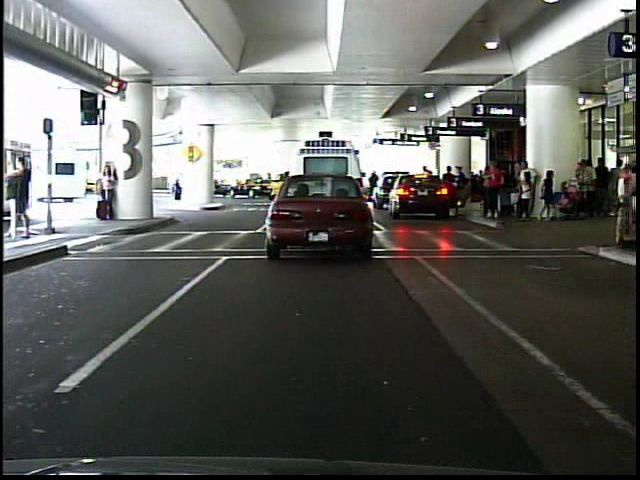person: (8, 151, 34, 242), (97, 158, 120, 222), (485, 161, 505, 223), (162, 161, 189, 204), (632, 144, 640, 255)
